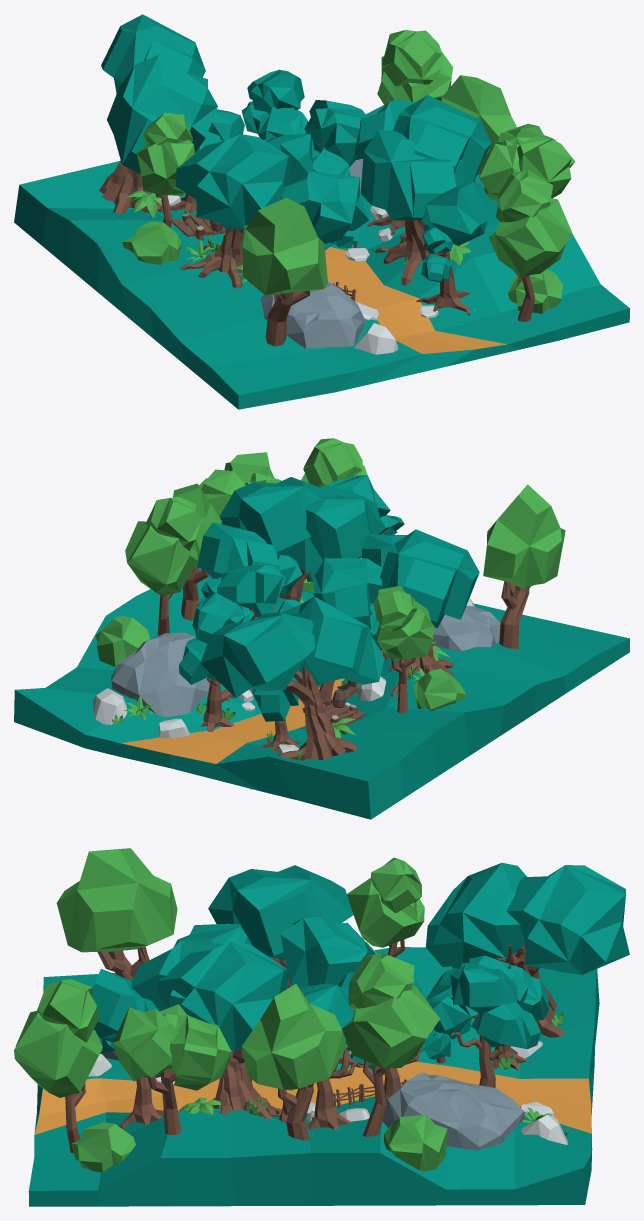
The model's file is Forest_beta.glb.
3 renders of one model, top to bottom at view 1: azimuth 30°, elevation 25°; view 2: azimuth 150°, elevation 25°; view 3: azimuth 270°, elevation 25°, orthographic. The views are drawn at different scales.
Visible parts, largest first — view 1: group2009401224, group403363102, group1489245576, group547813215, group313951583, group1634341855, group443772894, group2035836735, group1573540807, group561706230, group624080166, group734284808 (+19 smaller); view 2: group2009401224, group403363102, group624080166, group1489245576, group2035836735, group547813215, group1922369548, group443772894, group1634341855, group506122935, group1180255365, group1890178627 (+20 smaller); view 3: group2009401224, group403363102, group624080166, group2035836735, group1045676722, group443772894, group1573540807, group313951583, group1489245576, group547813215, group1922369548, group506122935 (+18 smaller).
Part boxes in pixels (x1,y1,x2,y2): group2009401224: [14, 105, 629, 409]; group403363102: [241, 197, 327, 346]; group1489245576: [176, 134, 291, 229]; group547813215: [107, 55, 217, 174]; group313951583: [488, 170, 572, 321]; group1634341855: [360, 130, 465, 220]; group443772894: [393, 95, 491, 184]; group2035836735: [377, 30, 453, 105]; group1573540807: [479, 123, 575, 201]; group561706230: [260, 281, 366, 348]; group624080166: [101, 14, 205, 93]; group734284808: [281, 171, 368, 243]; group2009401224: [14, 568, 629, 819]; group403363102: [483, 484, 565, 649]; group624080166: [200, 612, 314, 697]; group1489245576: [380, 529, 479, 627]; group2035836735: [125, 497, 201, 635]; group547813215: [281, 596, 384, 684]; group1922369548: [111, 632, 209, 717]; group443772894: [219, 477, 335, 558]; group1634341855: [289, 485, 381, 573]; group506122935: [373, 586, 434, 713]; group1180255365: [313, 558, 382, 629]; group1890178627: [197, 522, 279, 578]; group2009401224: [28, 947, 599, 1206]; group403363102: [56, 848, 177, 980]; group624080166: [506, 865, 629, 974]; group2035836735: [342, 952, 439, 1136]; group1045676722: [242, 984, 346, 1140]; group443772894: [157, 941, 287, 1050]; group1573540807: [112, 1004, 231, 1134]; group313951583: [14, 979, 102, 1153]; group1489245576: [208, 865, 353, 960]; group547813215: [426, 862, 526, 968]; group1922369548: [382, 1072, 524, 1150]; group506122935: [347, 857, 424, 957].
Size of the model in its own units: 16.97 by 8.18 by 20.17.
